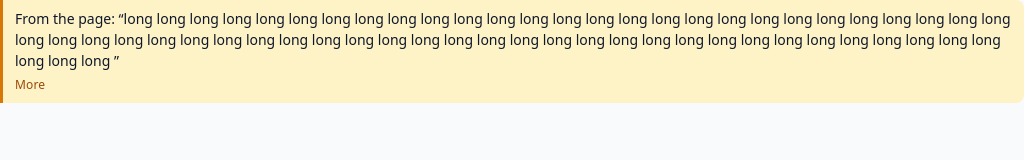
Test: SourceQuote › shows short quotes in full and clamps long ones behind More / Less
Click the button "More": (30, 85) [15,77,45,94]
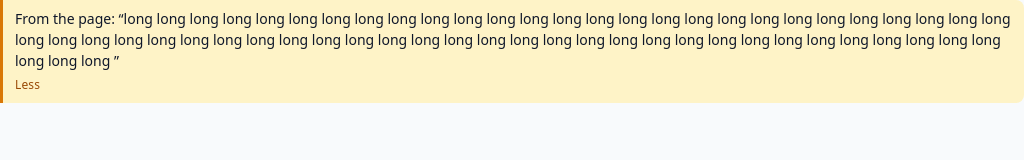
Result: the button "Less" is expanded at [15,77,40,94]
